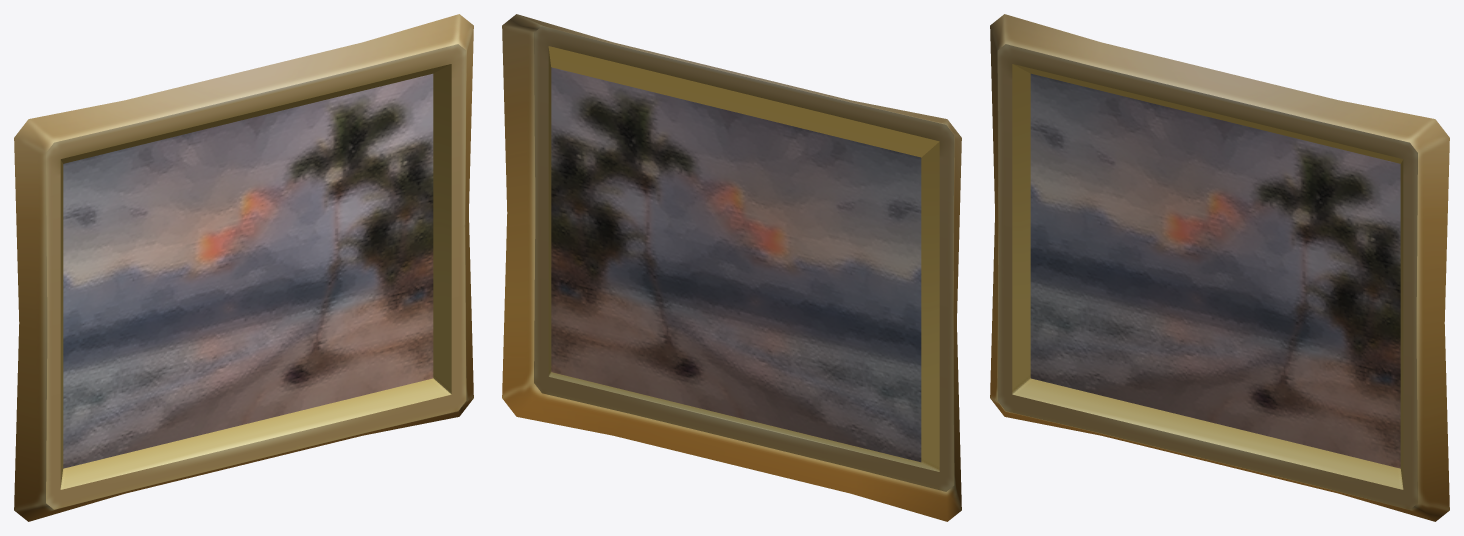
The model's file is corridor_object_wall_frame.FBX.
3 views of the same model, side by side, from view 1: azimuth 30°, elevation 25°; view 2: azimuth 150°, elevation 25°; view 3: azimuth 330°, elevation 25° (orthographic).
Parts seen in each view (by area): view 1: Box026; view 2: Box026; view 3: Box026.
Boxes of the visible parts, x1=… form: Box026: x1=14, y1=14, x2=473, y2=521; Box026: x1=502, y1=14, x2=961, y2=521; Box026: x1=990, y1=14, x2=1449, y2=521.
Size of the model in its own units: 517 by 433 by 23.73.
Materials: 1 (1 with a texture image).
